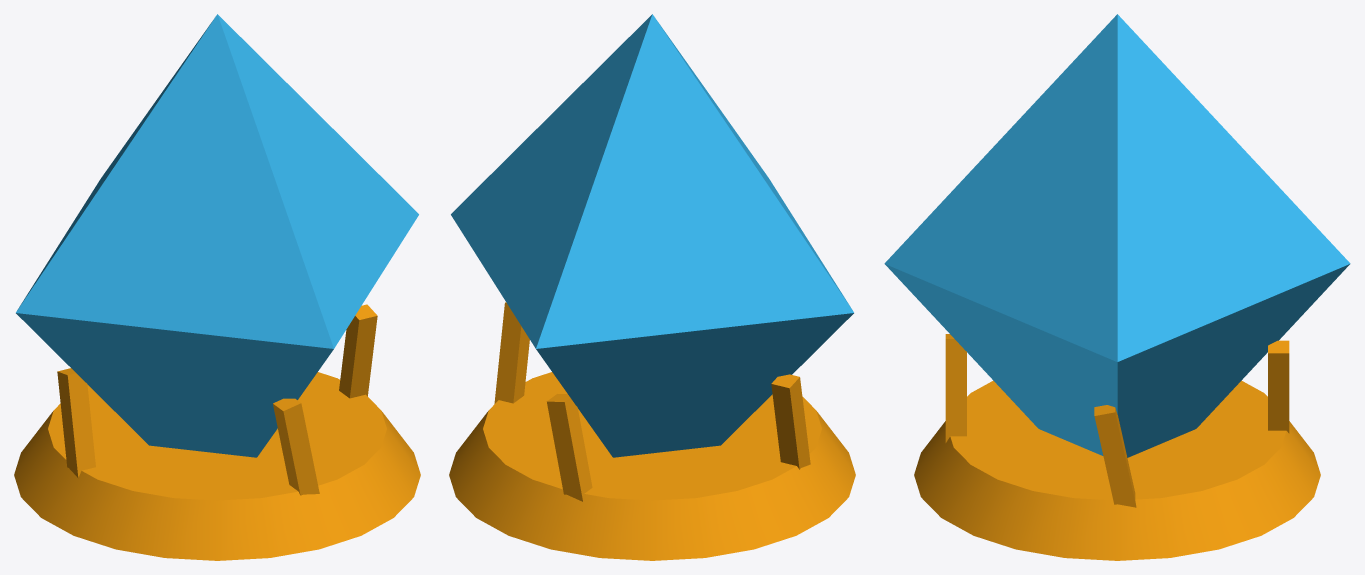
Rendered from giant_diamond.glb.
The picture shows the model from 3 angles, left to right: view 1: azimuth 30°, elevation 25°; view 2: azimuth 150°, elevation 25°; view 3: azimuth 270°, elevation 25°; orthographic projection.
Visible parts, largest first — view 1: GiantDiamond; view 2: GiantDiamond; view 3: GiantDiamond.
Boxes of the visible parts, left/top/right/bottom form: GiantDiamond: left=14, top=14, right=420, bottom=560; GiantDiamond: left=449, top=14, right=855, bottom=560; GiantDiamond: left=884, top=14, right=1350, bottom=560.
Bounding box in the file's own units: 1.1 × 1.3 × 1.1.
